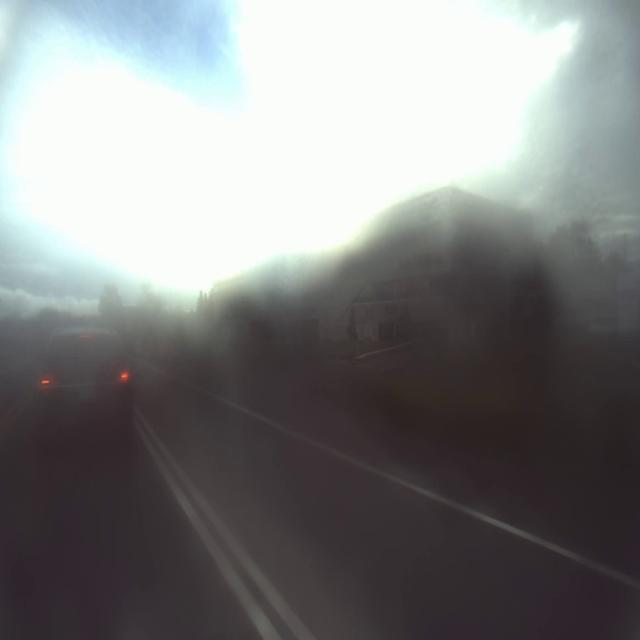car: (29, 315, 135, 435)
